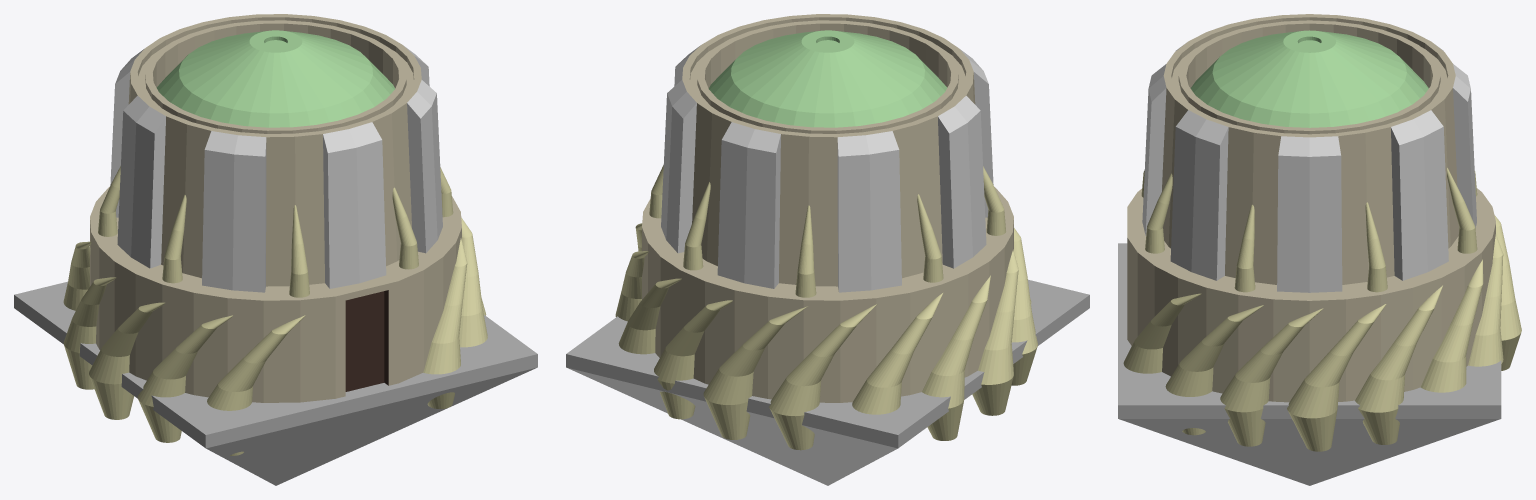
The model's file is Building Granary T3.fbx.
3 renders of one model, left to right at view 1: azimuth 30°, elevation 25°; view 2: azimuth 150°, elevation 25°; view 3: azimuth 270°, elevation 25°, orthographic.
Parts seen in each view (by area): view 1: Granary; view 2: Granary; view 3: Granary.
Part boxes in pixels (bbox=[...]): Granary: bbox=[14, 14, 537, 485]; Granary: bbox=[566, 14, 1089, 485]; Granary: bbox=[1118, 14, 1521, 485].
Bounding box in the file's own units: 1780 × 2045 × 1685.
